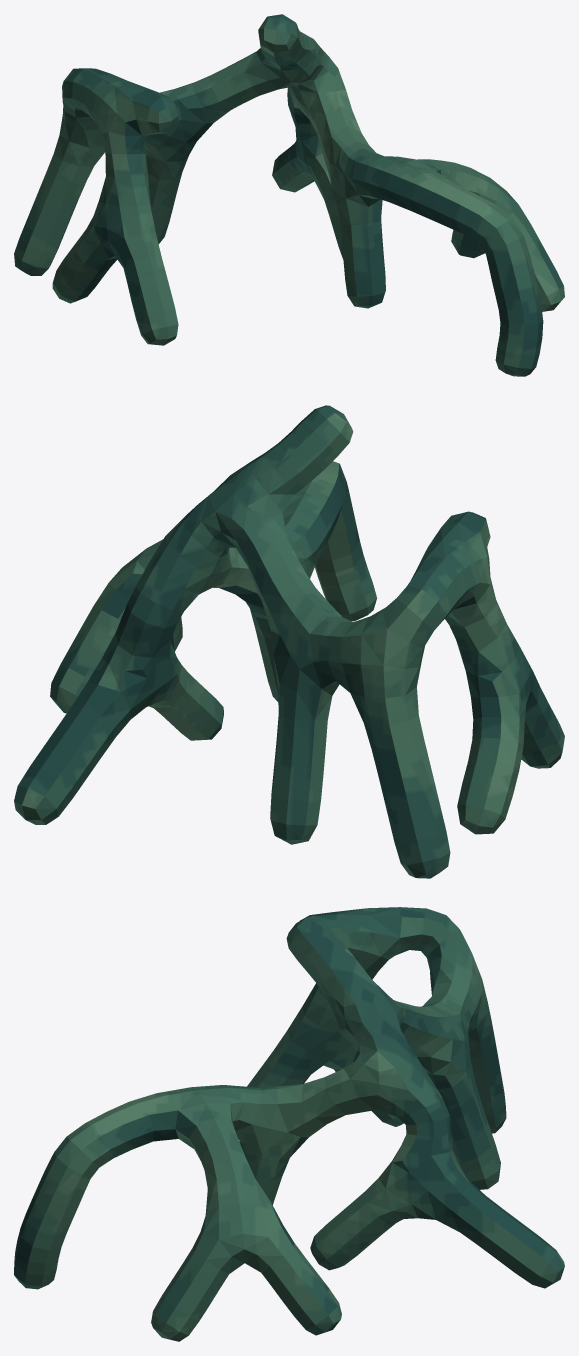
The model's file is Nervenstrang V2.fbx.
The picture shows the model from 3 angles, top to bottom: view 1: azimuth 30°, elevation 25°; view 2: azimuth 150°, elevation 25°; view 3: azimuth 270°, elevation 25°; orthographic projection. The views are drawn at different scales.
Parts seen in each view (by area): view 1: Nervenstrang V2; view 2: Nervenstrang V2; view 3: Nervenstrang V2.
Part boxes in pixels (x1,y1,x2,y2): Nervenstrang V2: (14, 14, 564, 376); Nervenstrang V2: (14, 405, 564, 878); Nervenstrang V2: (14, 907, 564, 1341).
Bounding box in the file's own units: 147 × 164 × 104.
Materials: 1 (1 with a texture image).
